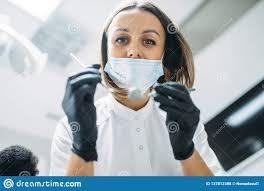Wore Mask Incorrectly: (94, 8, 190, 116)
